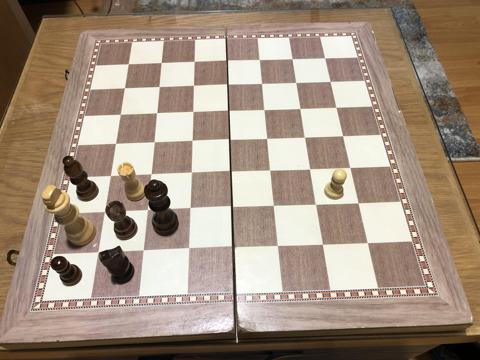xcorner: (319, 52, 331, 64), (287, 53, 299, 65), (254, 54, 266, 66), (189, 57, 201, 69), (156, 58, 168, 70), (124, 59, 136, 71), (324, 75, 336, 87), (290, 77, 302, 89), (256, 78, 268, 90), (222, 79, 234, 91), (154, 82, 166, 94), (120, 83, 132, 95), (330, 101, 342, 113), (295, 102, 307, 114), (259, 104, 271, 116), (223, 105, 235, 117), (187, 107, 199, 119), (151, 108, 163, 120), (299, 131, 311, 143), (262, 132, 274, 144), (224, 134, 236, 146), (186, 135, 198, 147), (149, 137, 161, 149), (111, 138, 123, 150), (344, 161, 356, 173), (304, 163, 316, 175), (265, 164, 277, 176), (225, 166, 237, 178), (185, 167, 197, 179), (145, 169, 157, 181), (352, 196, 364, 208), (310, 198, 322, 210), (268, 200, 280, 212), (226, 201, 238, 213), (184, 203, 196, 215), (142, 205, 154, 217), (100, 206, 112, 218), (361, 236, 373, 248), (316, 238, 328, 250), (272, 239, 284, 251), (227, 241, 239, 253), (138, 245, 150, 257), (93, 247, 105, 259), (222, 56, 234, 67), (188, 81, 200, 92), (116, 109, 127, 121), (337, 130, 349, 141), (183, 243, 194, 255), (106, 171, 117, 182)
